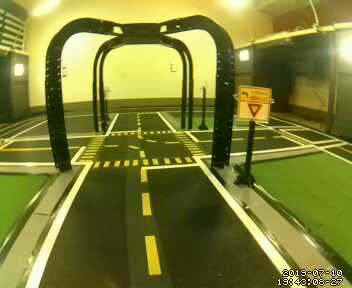Turn Yield: (239, 86, 269, 124)
